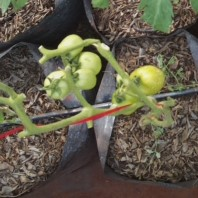tomato: (129, 63, 167, 95), (109, 86, 144, 118), (42, 69, 77, 99), (76, 51, 109, 75), (72, 66, 99, 95), (54, 32, 85, 57)
